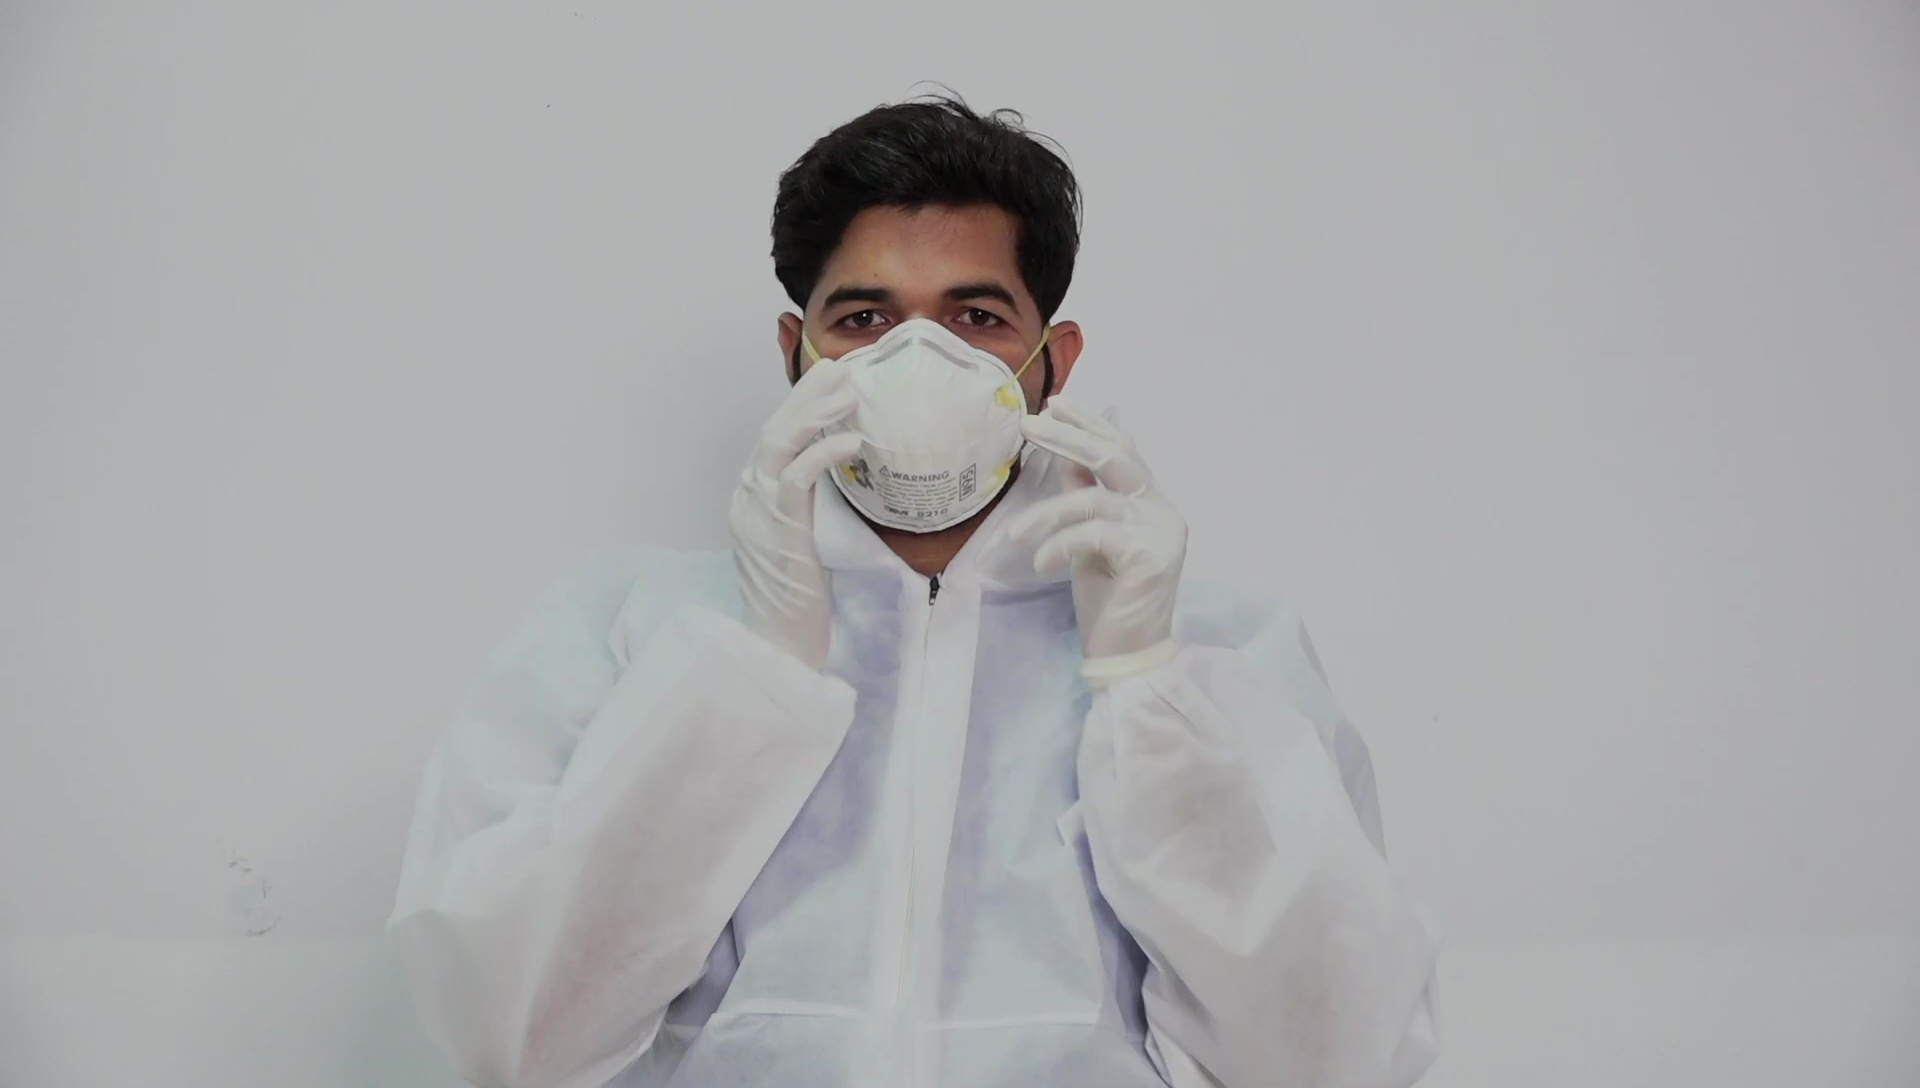Coverall: (393, 551, 1444, 1083)
Gloves: (1019, 394, 1191, 665), (725, 357, 861, 677)
with_mask: (841, 319, 1024, 535)
